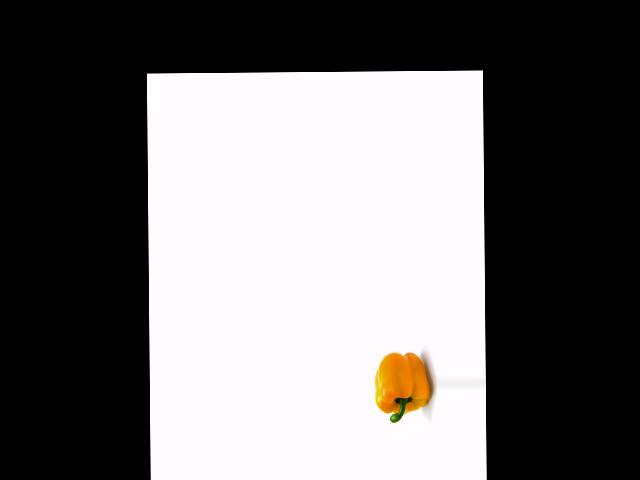bell_pepper: (371, 350, 430, 428)
